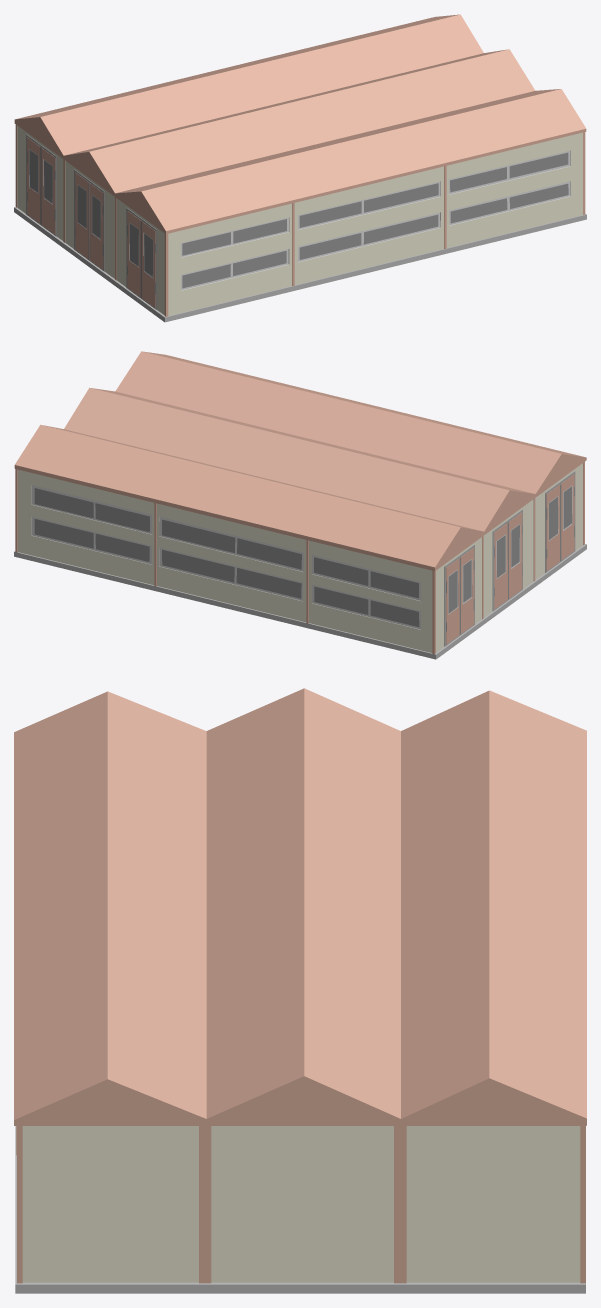
Rendered from props1.fbx.
The picture shows the model from 3 angles, top to bottom: view 1: azimuth 30°, elevation 25°; view 2: azimuth 150°, elevation 25°; view 3: azimuth 270°, elevation 25°; orthographic projection. The views are drawn at different scales.
Parts seen in each view (by area): view 1: Boole, Cube_8, Cube_5, Cube_4, Cube_7, Cube_6, Cube_3; view 2: Boole, Cube_7, Cube_5, Cube_4, Cube_6, Cube_3, Cube_8; view 3: Boole.
Part boxes in pixels (x1,y1,x2,y2): Boole: (14, 14, 586, 322); Cube_8: (141, 221, 155, 307); Cube_5: (75, 172, 89, 259); Cube_4: (41, 147, 55, 234); Cube_7: (127, 211, 141, 297); Cube_6: (89, 183, 103, 269); Cube_3: (27, 137, 40, 224); Boole: (14, 351, 586, 659); Cube_7: (546, 484, 560, 571); Cube_5: (494, 522, 508, 609); Cube_4: (460, 547, 474, 634); Cube_6: (508, 512, 522, 598); Cube_3: (446, 558, 460, 644); Cube_8: (560, 474, 574, 560); Boole: (14, 688, 586, 1293).
Size of the model in its own units: 4535 by 1177 by 2819.
